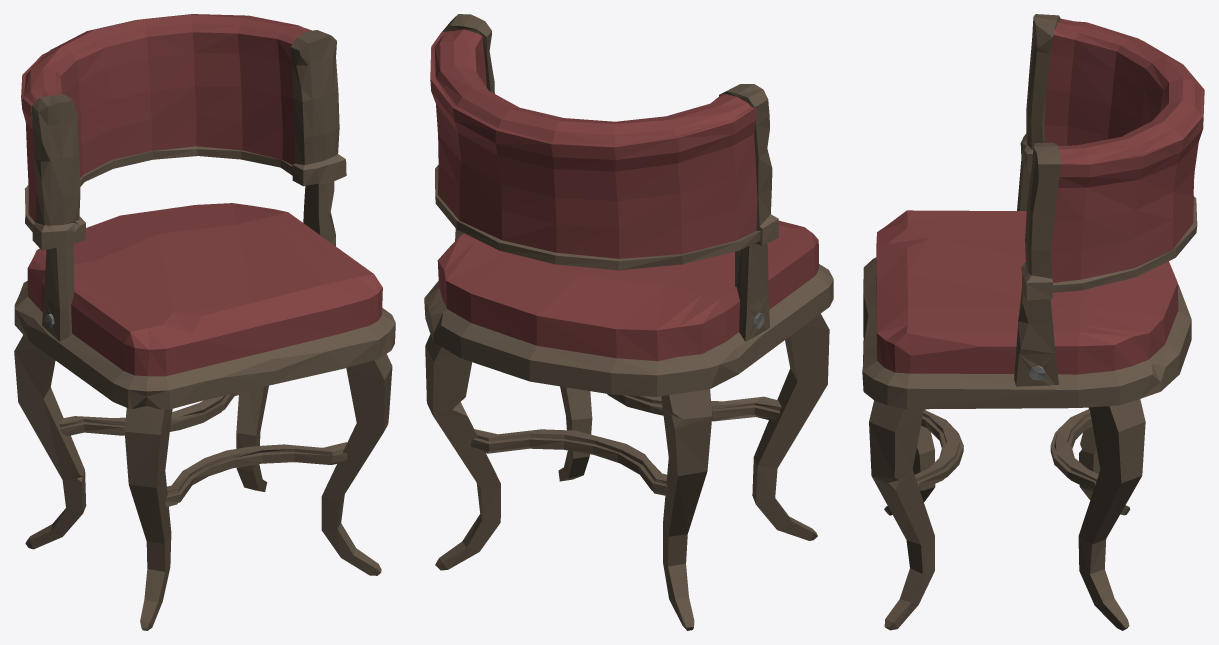
The model's file is SFHW_Chair_001.fbx.
The picture shows the model from 3 angles, left to right: view 1: azimuth 30°, elevation 25°; view 2: azimuth 150°, elevation 25°; view 3: azimuth 270°, elevation 25°; orthographic projection. The views are drawn at different scales.
Parts seen in each view (by area): view 1: SFHW_Chair_001; view 2: SFHW_Chair_001; view 3: SFHW_Chair_001.
Boxes of the visible parts, x1,y1,x2,y2 form: SFHW_Chair_001: [14, 14, 395, 630]; SFHW_Chair_001: [424, 14, 833, 630]; SFHW_Chair_001: [862, 14, 1204, 630].
Size of the model in its own units: 78.11 by 118 by 74.63.
